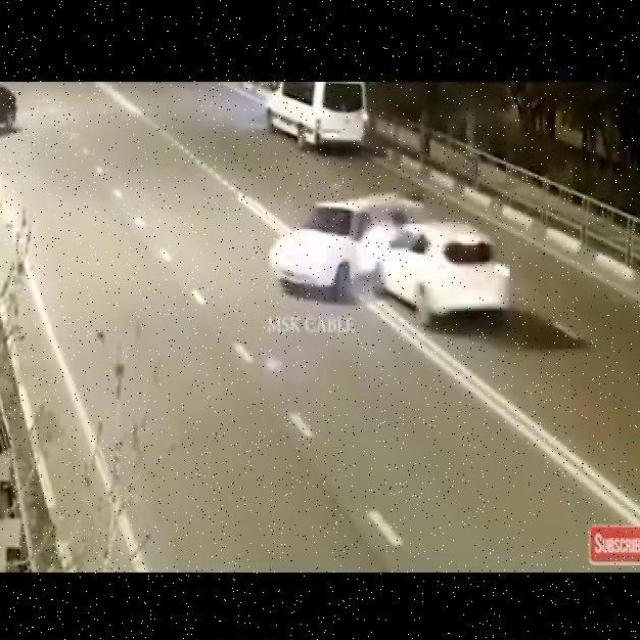accident: (288, 174, 496, 330)
